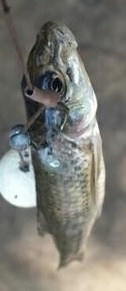Gobio gobio: (20, 20, 106, 271)
